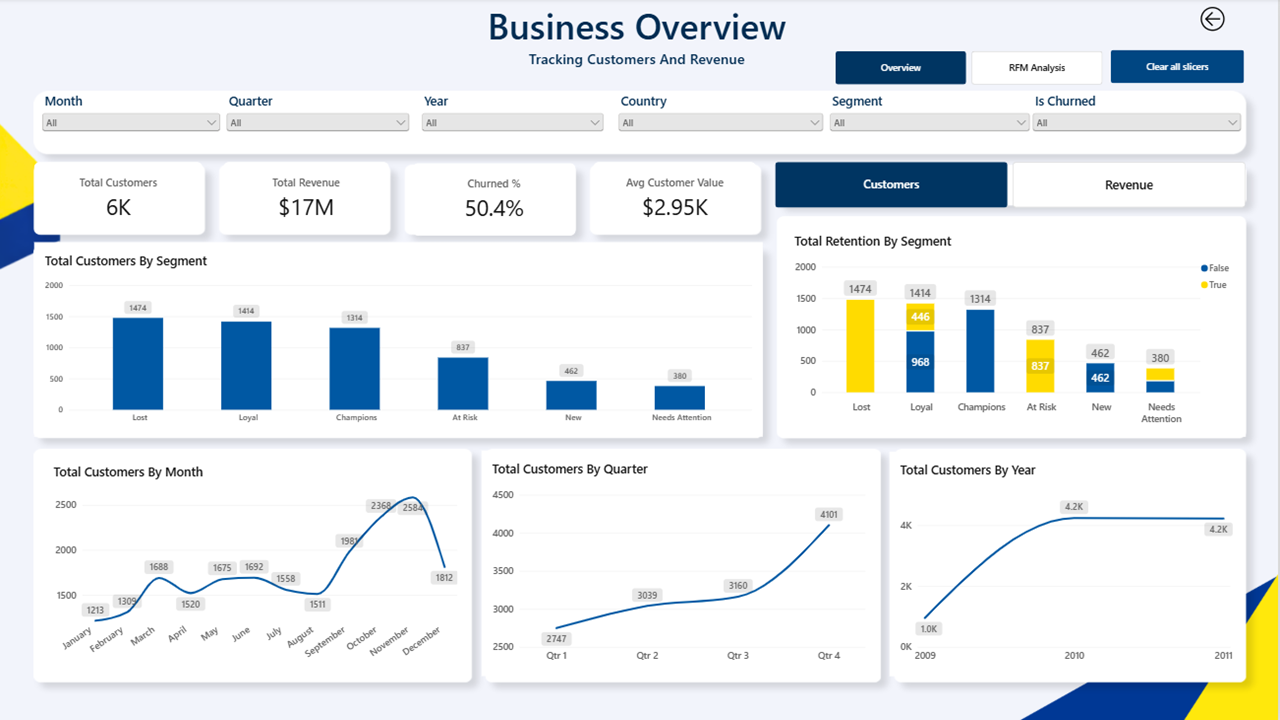

Layout of this report page (visuals, bound fields, positions):
{"tool":"powerbi","page":{"name":"Overview","canvas":[1920,1080],"ordinal":0},"visuals":[{"type":"cardVisual","fields":{"Data":["Sheet1.Total_Customers"]},"box":[57.1,244.8,252.1,108.6],"z":0},{"type":"lineChart","title":"Total Customers By Month","fields":{"Category":["Sheet1.InvoiceDate.Variation.Date Hierarchy.Month"],"Y":["Sheet1.Total_Customers"]},"box":[69.8,678.8,636.8,336.8],"z":0,"group":"g1"},{"type":"cardVisual","fields":{"Data":["Sheet1.Avg Customer Value"]},"box":[894.5,244.8,244.8,108.6],"z":1000},{"type":"lineChart","title":"Total Customers By Quarter","fields":{"Category":["Sheet1.InvoiceDate.Variation.Date Hierarchy.Quarter"],"Y":["Sheet1.Total_Customers"]},"box":[726.9,675.1,590.8,336.8],"z":1000,"group":"g1"},{"type":"cardVisual","fields":{"Data":["Sheet1.Churned %"]},"box":[623.9,246.6,244.8,108.6],"z":2000},{"type":"columnChart","title":"Total Customers By Segment","fields":{"Category":["Sheet1.Segment"],"Y":["Sheet1.Total_Customers"]},"box":[57,364.3,1091.4,290.8],"z":2000,"group":"g1"},{"type":"cardVisual","fields":{"Data":["Sheet1.Total_Revenue"]},"box":[340.5,244.8,248.5,108.6],"z":3000},{"type":"lineChart","title":"Total Customers By Year","fields":{"Category":["Sheet1.InvoiceDate.Variation.Date Hierarchy.Year"],"Y":["Sheet1.Total_Customers"]},"box":[1337.9,677,530.1,335],"z":3000,"group":"g1"},{"type":"slicer","fields":{"Values":["Sheet1.InvoiceDate.Variation.Date Hierarchy.Month"]},"box":[64.4,139.9,276.1,88.3],"z":4000},{"type":"columnChart","title":"Total Retention By Segment","fields":{"Category":["Sheet1.Segment"],"Series":["Sheet1.IsChurned"],"Y":["Sheet1.Total_Customers"]},"box":[1179.6,335.4,692,320.2],"z":4000,"group":"g1"},{"type":"slicer","fields":{"Values":["Sheet1.IsChurned"]},"box":[1547.9,139.9,322.1,88.3],"z":5000},{"type":"slicer","fields":{"Values":["Sheet1.Segment"]},"box":[1244.2,139.9,309.2,88.3],"z":6000},{"type":"slicer","fields":{"Values":["Sheet1.Country"]},"box":[927.6,139.9,316.6,88.3],"z":7000},{"type":"slicer","fields":{"Values":["Sheet1.InvoiceDate.Variation.Date Hierarchy.Year"]},"box":[633.1,139.9,281.6,88.3],"z":8000},{"type":"slicer","fields":{"Values":["Sheet1.InvoiceDate.Variation.Date Hierarchy.Quarter"]},"box":[340.5,139.9,283.4,88.3],"z":9000},{"type":"group","id":"g1","title":"Customers","box":[57,335.4,1814.7,680.2],"z":11000},{"type":"bookmarkNavigator","box":[1166.9,244.8,704.9,68.1],"z":12000},{"type":"actionButton","box":[1772.4,0,99.4,62.6],"z":13000},{"type":"actionButton","box":[1669.3,77.3,200,50],"z":14000},{"type":"textbox","box":[587.3,3.7,745.4,123.3],"z":15000},{"type":"pageNavigator","box":[1257.1,79.1,400,50],"z":15001}]}

Visuals, with their boxes in screenshot pixels (x1, y1, x2, y2), scaled from the page's 1920x1080 canvas onto the 1280x720 screenshot:
cardVisual - Sheet1.Total_Customers: (left=38, top=163, right=206, bottom=236)
"Total Customers By Month" lineChart: (left=47, top=453, right=471, bottom=677)
cardVisual - Sheet1.Avg Customer Value: (left=596, top=163, right=760, bottom=236)
"Total Customers By Quarter" lineChart: (left=485, top=450, right=878, bottom=675)
cardVisual - Sheet1.Churned %: (left=416, top=164, right=579, bottom=237)
"Total Customers By Segment" columnChart: (left=38, top=243, right=766, bottom=437)
cardVisual - Sheet1.Total_Revenue: (left=227, top=163, right=393, bottom=236)
"Total Customers By Year" lineChart: (left=892, top=451, right=1245, bottom=675)
slicer - Sheet1.InvoiceDate.Variation.Date Hierarchy.Month: (left=43, top=93, right=227, bottom=152)
"Total Retention By Segment" columnChart: (left=786, top=224, right=1248, bottom=437)
slicer - Sheet1.IsChurned: (left=1032, top=93, right=1247, bottom=152)
slicer - Sheet1.Segment: (left=829, top=93, right=1036, bottom=152)
slicer - Sheet1.Country: (left=618, top=93, right=829, bottom=152)
slicer - Sheet1.InvoiceDate.Variation.Date Hierarchy.Year: (left=422, top=93, right=610, bottom=152)
slicer - Sheet1.InvoiceDate.Variation.Date Hierarchy.Quarter: (left=227, top=93, right=416, bottom=152)
"Customers" group: (left=38, top=224, right=1248, bottom=677)
bookmarkNavigator: (left=778, top=163, right=1248, bottom=209)
actionButton: (left=1182, top=0, right=1248, bottom=42)
actionButton: (left=1113, top=52, right=1246, bottom=85)
textbox: (left=392, top=2, right=888, bottom=85)
pageNavigator: (left=838, top=53, right=1105, bottom=86)
